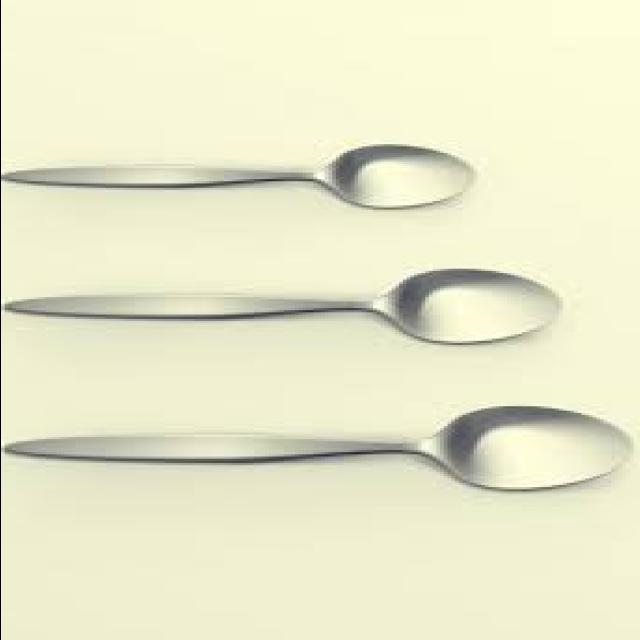spoon: (4, 404, 633, 491), (4, 269, 562, 347), (0, 142, 476, 212)
